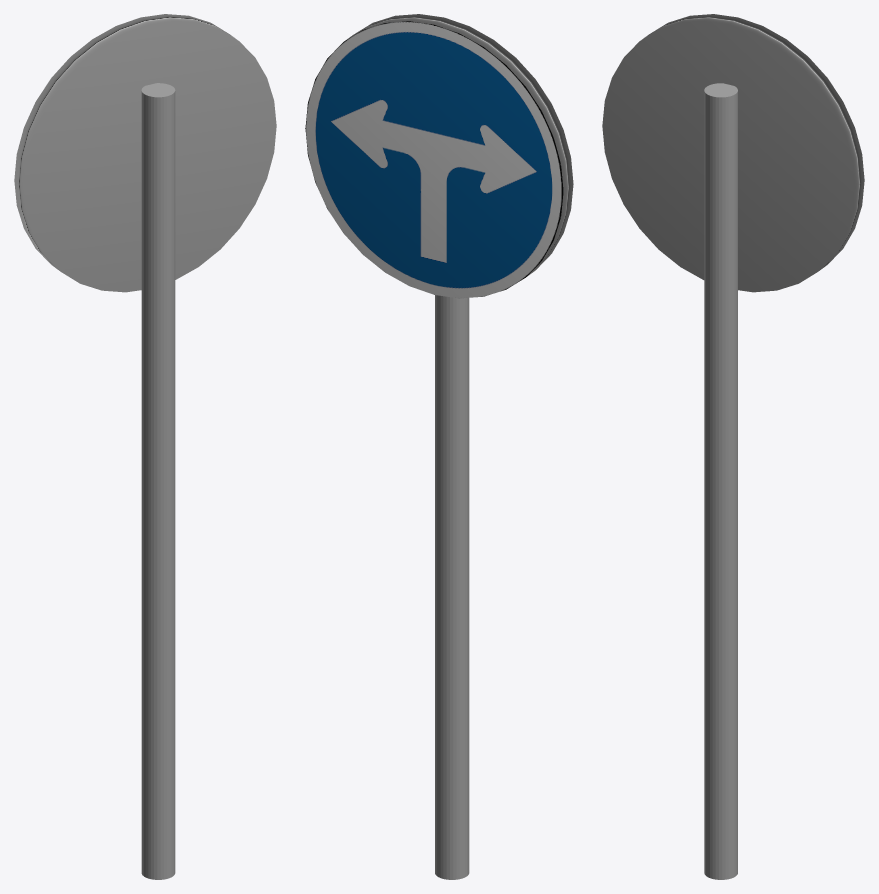
The model's file is ЗнакДвижениеНаправоИлиНалево.fbx.
3 renders of one model, left to right at view 1: azimuth 30°, elevation 25°; view 2: azimuth 150°, elevation 25°; view 3: azimuth 330°, elevation 25°, orthographic. The views are drawn at different scales.
Parts seen in each view (by area): view 1: Знак; view 2: Знак; view 3: Знак.
Part boxes in pixels (x1,y1,x2,y2): Знак: [14, 14, 276, 879]; Знак: [305, 14, 573, 879]; Знак: [602, 14, 864, 879].
Size of the model in its own units: 64.18 by 361 by 1150.
2 materials, 1 textured.
